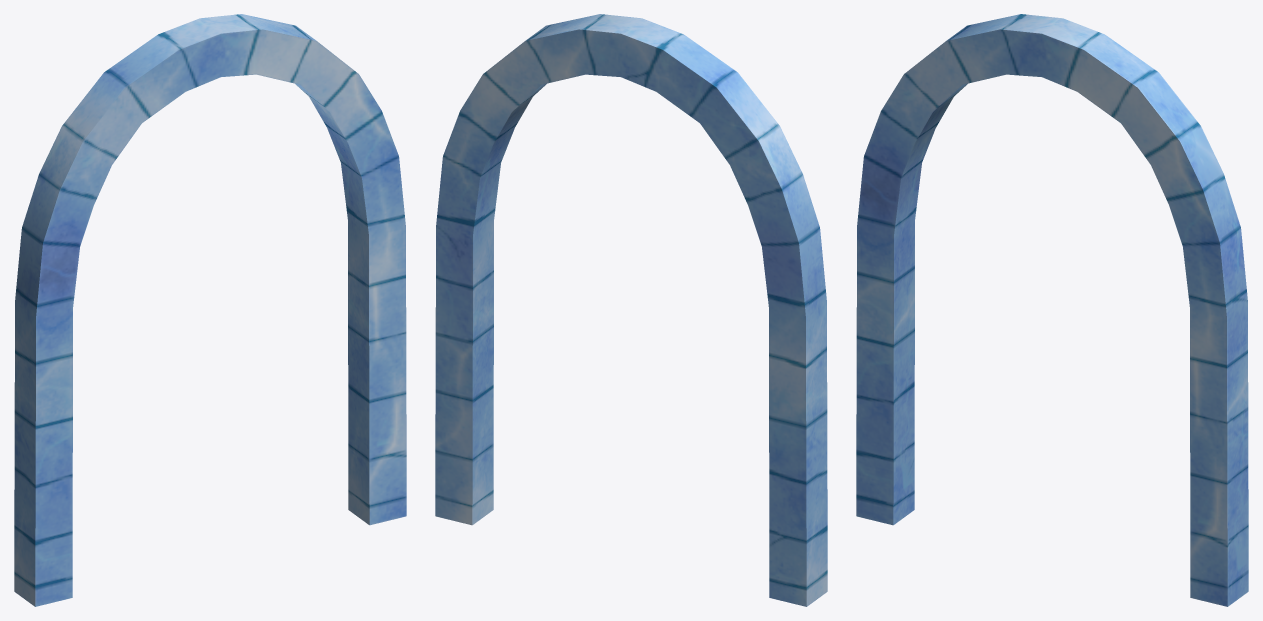
Rendered from sb_obj_outdoor023_IceCastle01_door01.fbx.
3 views of the same model, side by side, from view 1: azimuth 30°, elevation 25°; view 2: azimuth 150°, elevation 25°; view 3: azimuth 330°, elevation 25° (orthographic).
Parts seen in each view (by area): view 1: sb_obj_outdoor023_IceCastle01_door01; view 2: sb_obj_outdoor023_IceCastle01_door01; view 3: sb_obj_outdoor023_IceCastle01_door01.
Boxes of the visible parts, left/top/right/bottom form: sb_obj_outdoor023_IceCastle01_door01: left=14, top=14, right=406, bottom=606; sb_obj_outdoor023_IceCastle01_door01: left=435, top=14, right=827, bottom=606; sb_obj_outdoor023_IceCastle01_door01: left=856, top=14, right=1248, bottom=606.
Bounding box in the file's own units: 2.44 × 3.31 × 0.2394.
